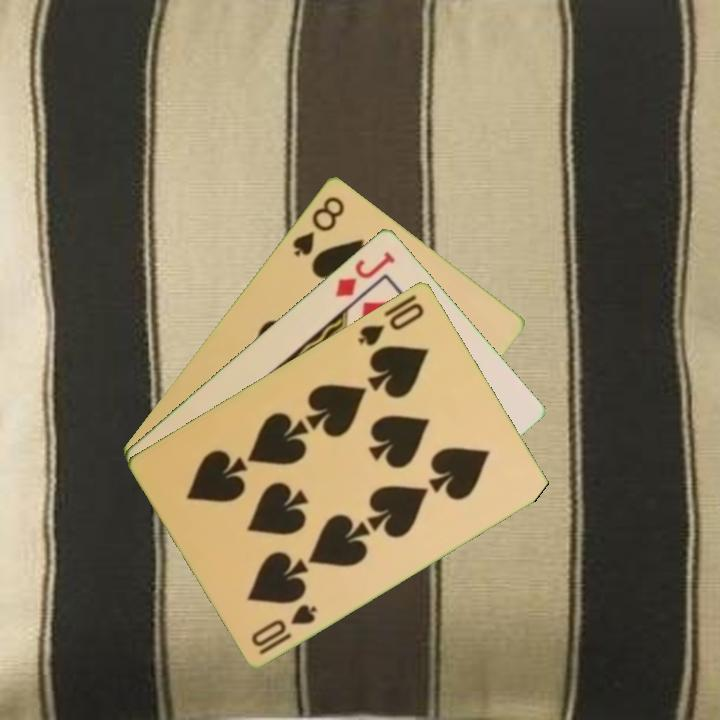10s: (248, 599, 320, 657), (354, 298, 428, 349)
8s: (288, 192, 348, 259)
Jd: (331, 247, 399, 300)
